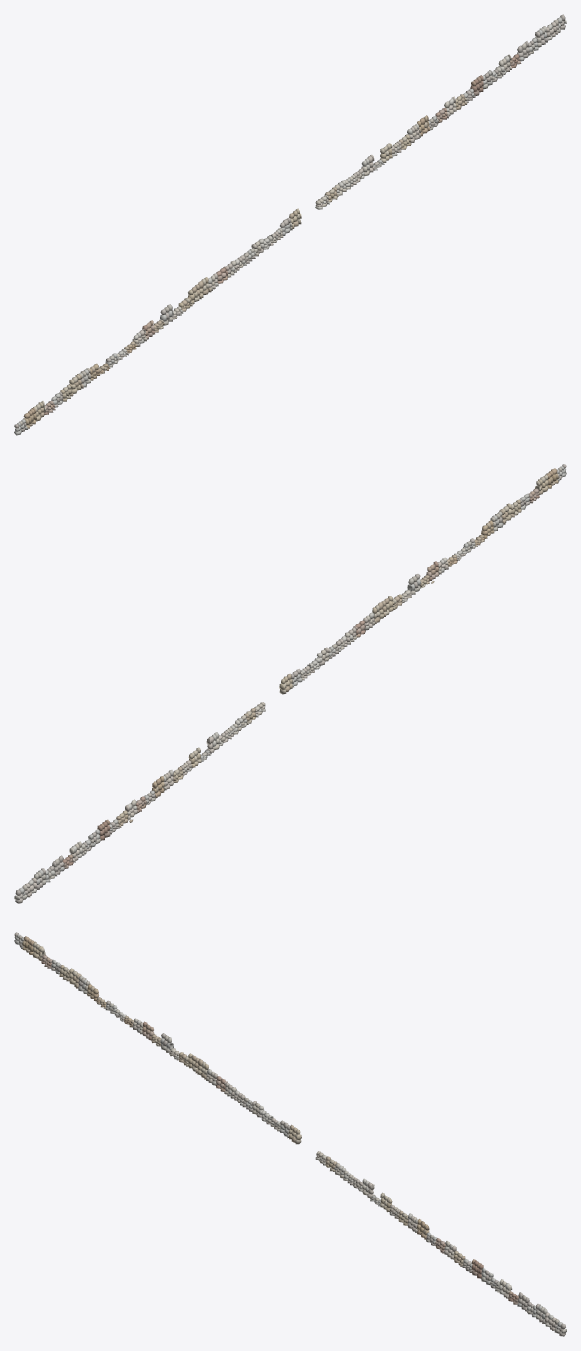
File: farm_26_17_near.glb
3 renders of one model, top to bottom at view 1: azimuth 30°, elevation 25°; view 2: azimuth 210°, elevation 25°; view 3: azimuth 270°, elevation 25°, orthographic. The views are drawn at different scales.
Visible parts, largest first — view 1: geometry_0; view 2: geometry_0; view 3: geometry_0.
Boxes of the visible parts, <box> form: geometry_0: <box>14,14,566,435</box>; geometry_0: <box>14,464,566,903</box>; geometry_0: <box>14,932,566,1336</box>.
Size of the model in its own units: 81.27 by 2.38 by 49.2.
